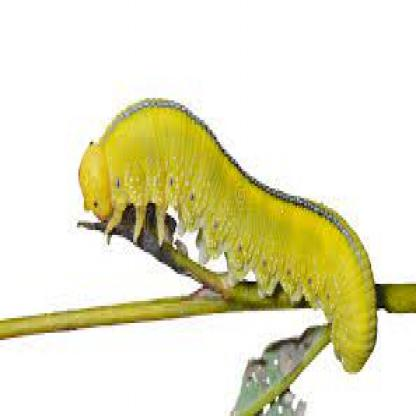sawfly: (76, 91, 381, 378)
